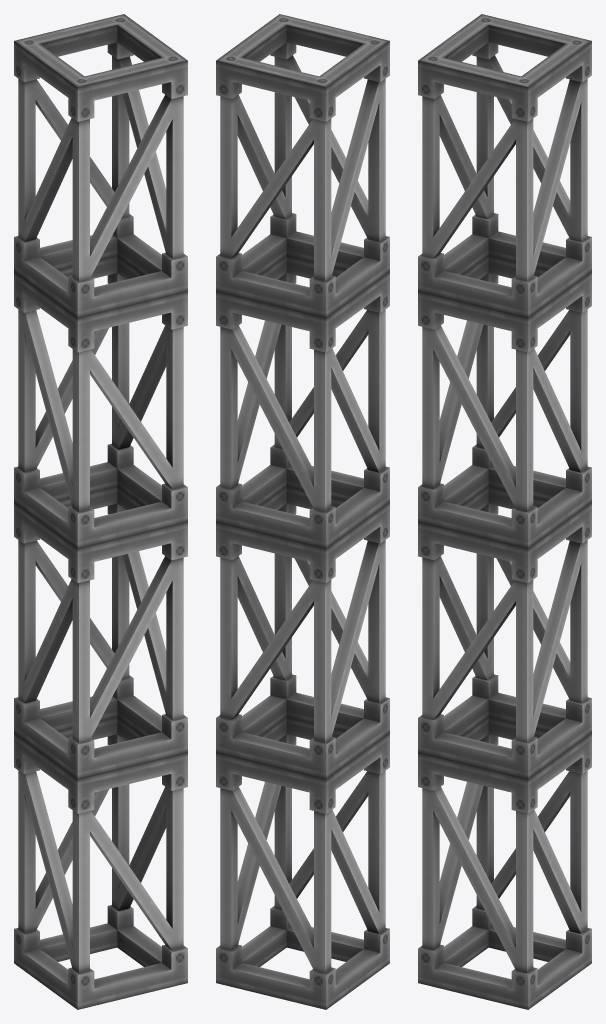
File: sofora_truss_srf_2.obj
The picture shows the model from 3 angles, left to right: view 1: azimuth 30°, elevation 25°; view 2: azimuth 150°, elevation 25°; view 3: azimuth 330°, elevation 25°; orthographic projection.
Visible parts, largest first — view 1: mesh1; view 2: mesh1; view 3: mesh1.
Part boxes in pixels (bbox=[...]): mesh1: bbox=[14, 14, 187, 1009]; mesh1: bbox=[216, 14, 389, 1009]; mesh1: bbox=[418, 14, 591, 1009].
Size of the model in its own units: 0.25 by 2 by 0.25.
1 material, 1 textured.
